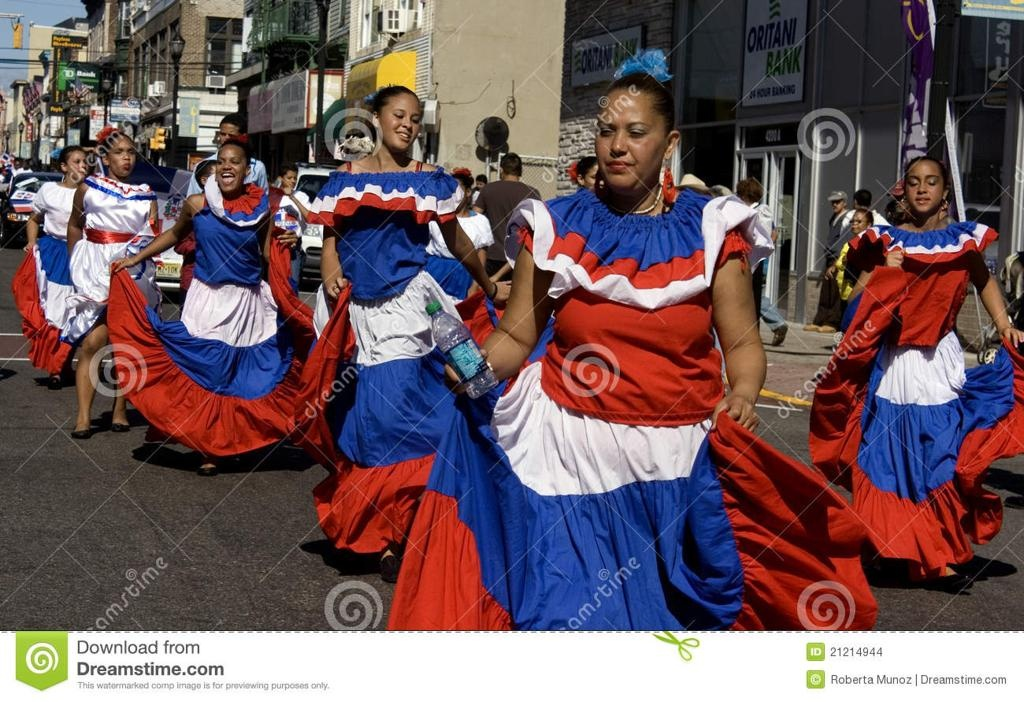human_face: (596, 102, 666, 186), (378, 96, 420, 150), (906, 164, 942, 212), (216, 149, 246, 191), (106, 138, 134, 176), (65, 152, 87, 176), (584, 168, 604, 194), (218, 126, 236, 148), (852, 214, 866, 232), (283, 171, 295, 189), (831, 195, 843, 210), (476, 180, 484, 188), (13, 161, 19, 167), (3, 168, 9, 174)
